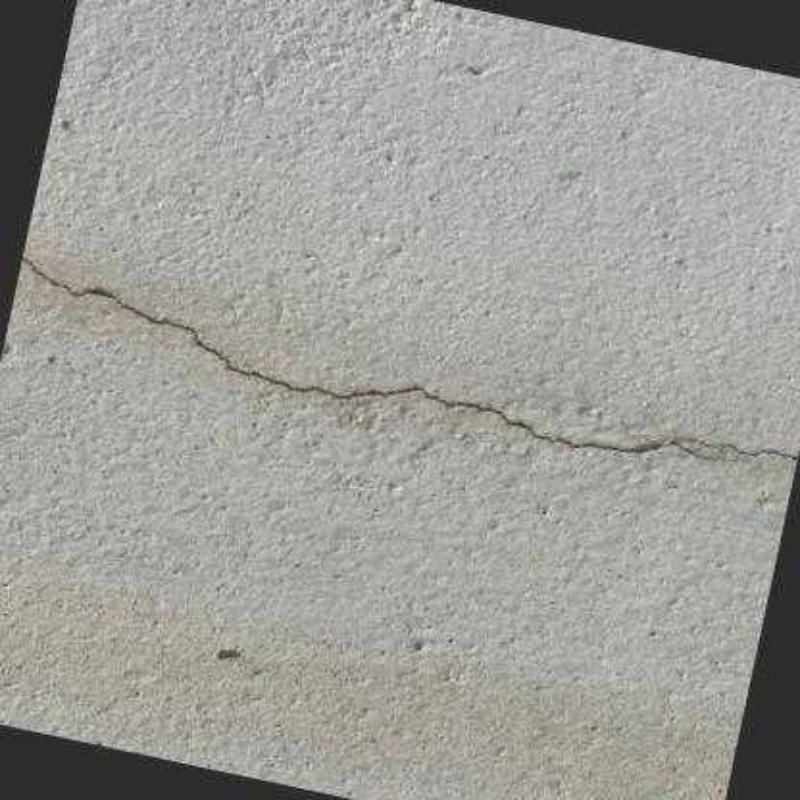pothole: (22, 258, 737, 461), (689, 437, 797, 458)
